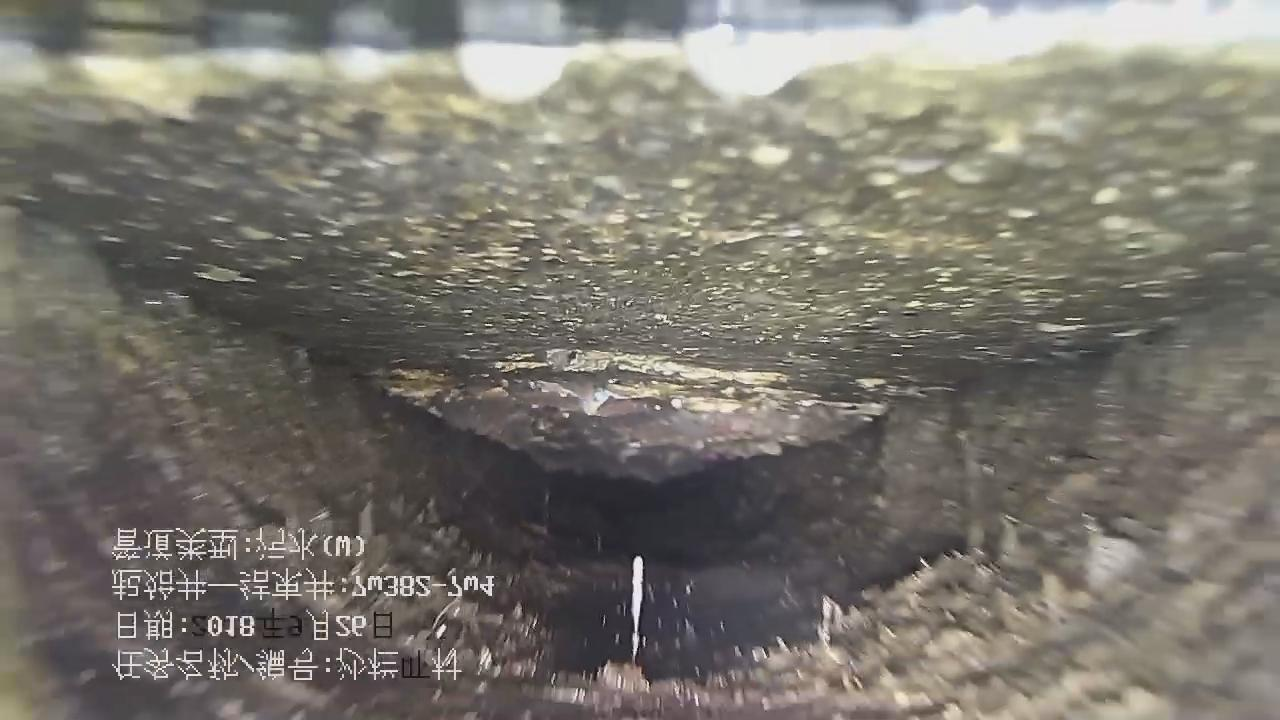FZ: (0, 63, 1279, 480)
JG: (0, 217, 1279, 720)
